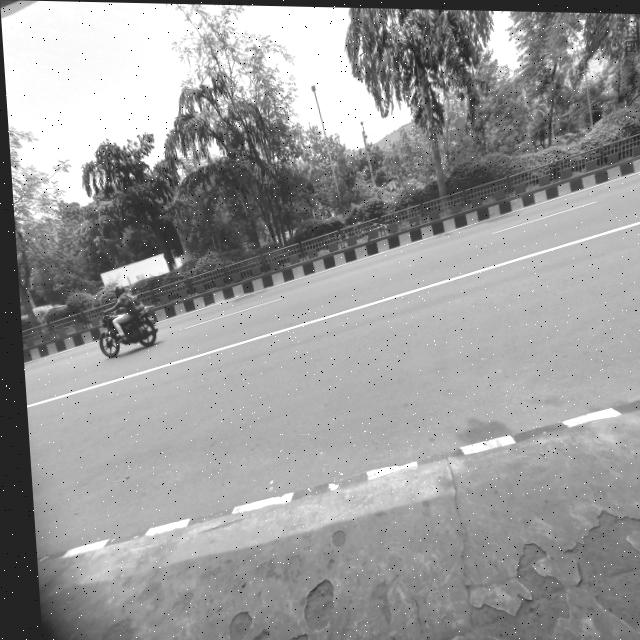bike: (86, 300, 163, 357)
